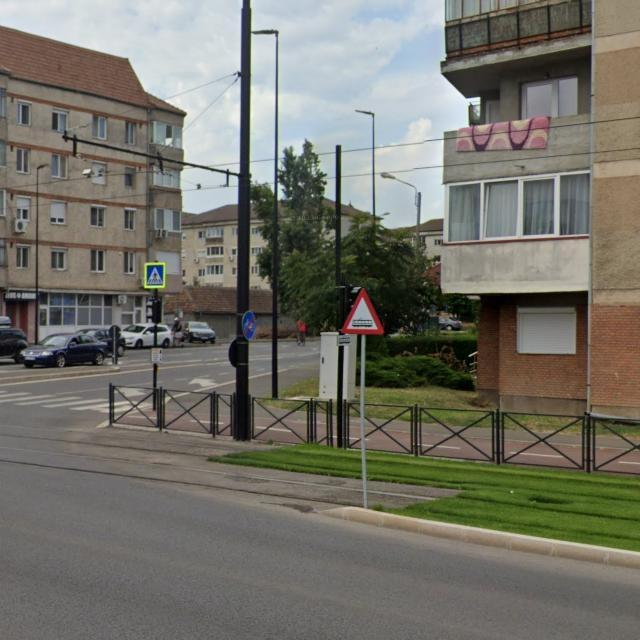info_crosswalk: (143, 262, 167, 290)
